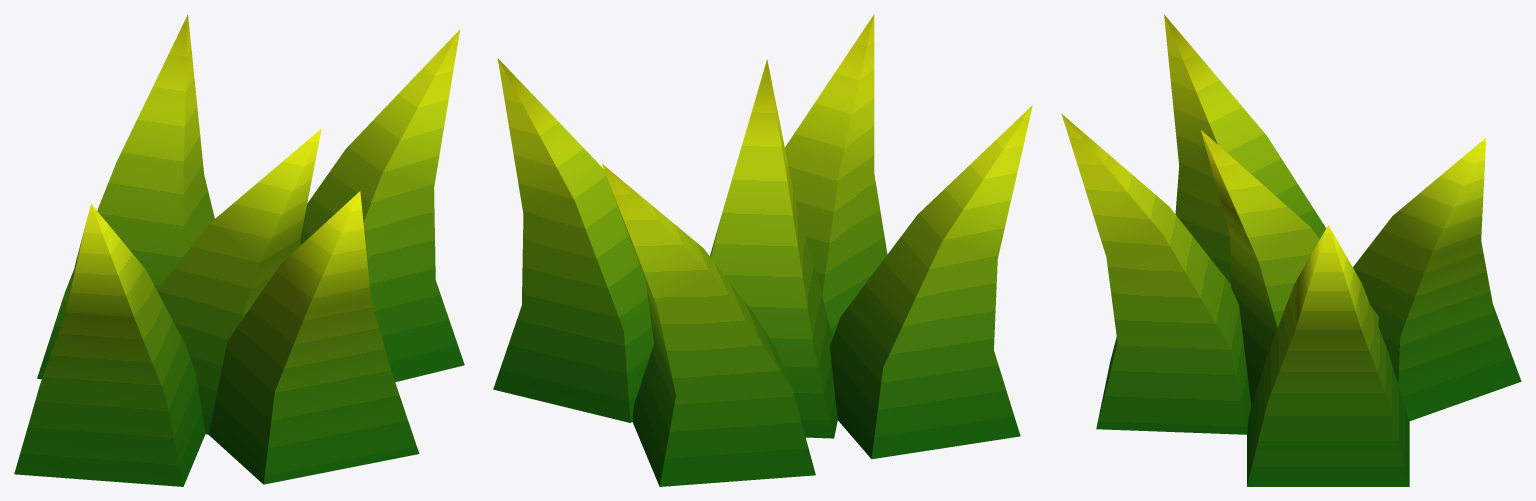
The model's file is grass1.fbx.
3 views of the same model, side by side, from view 1: azimuth 30°, elevation 25°; view 2: azimuth 150°, elevation 25°; view 3: azimuth 270°, elevation 25° (orthographic). The views are drawn at different scales.
Parts seen in each view (by area): view 1: grass1; view 2: grass1; view 3: grass1.
Part boxes in pixels (x1,y1,x2,y2): grass1: [14, 14, 464, 486]; grass1: [493, 14, 1032, 486]; grass1: [1061, 14, 1521, 486].
Size of the model in its own units: 204 by 118 by 175.
